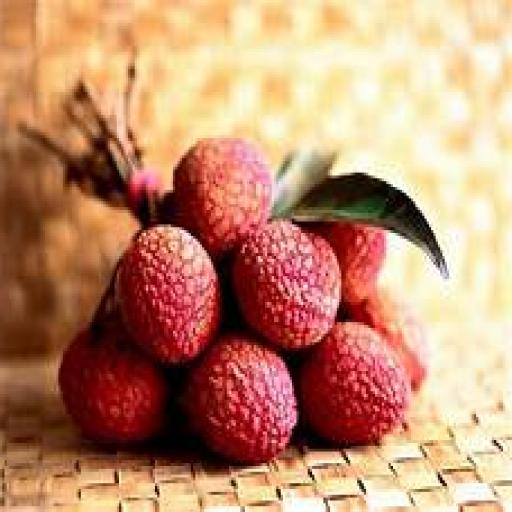lychee: (181, 334, 295, 463), (116, 225, 219, 365), (231, 222, 340, 348), (298, 323, 409, 445), (58, 331, 167, 445), (172, 139, 270, 261), (348, 288, 427, 388), (318, 222, 385, 304)
